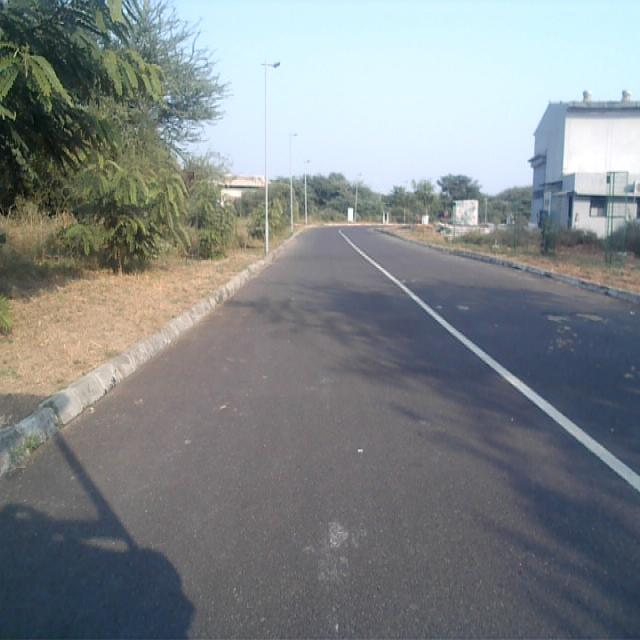lane: (0, 227, 640, 640)
